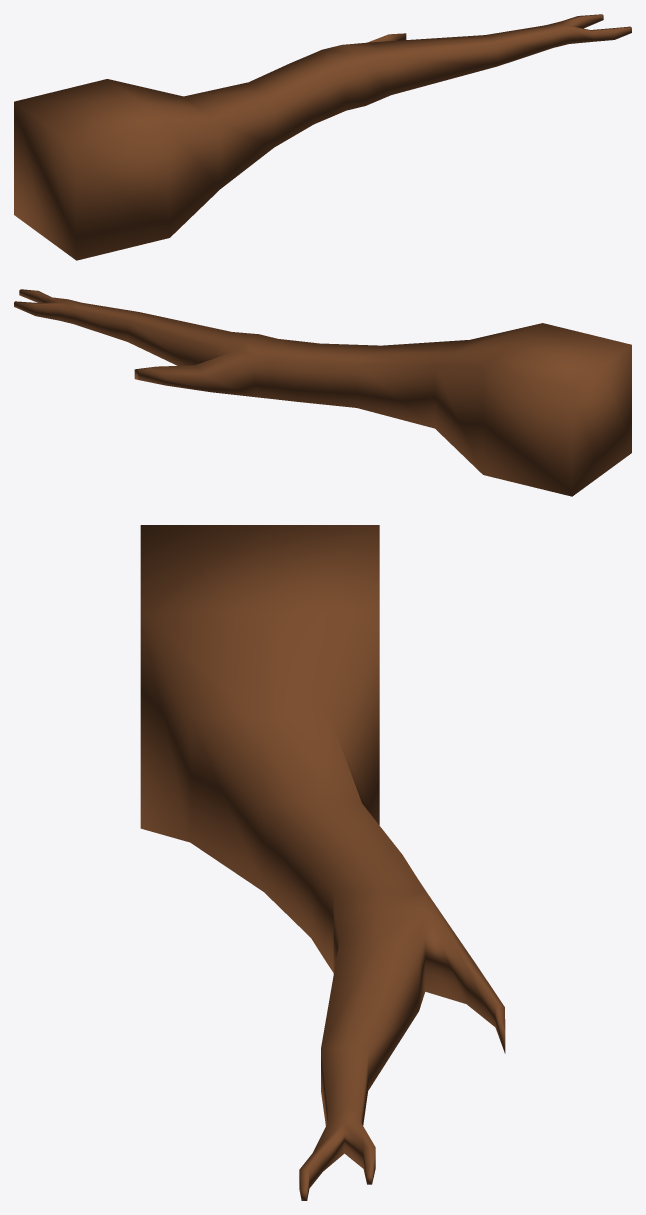
File: treeroot.fbx
3 renders of one model, top to bottom at view 1: azimuth 30°, elevation 25°; view 2: azimuth 150°, elevation 25°; view 3: azimuth 270°, elevation 25°, orthographic. The views are drawn at different scales.
Visible parts, largest first — view 1: Cube; view 2: Cube; view 3: Cube.
Part boxes in pixels (bbox=[...]): Cube: bbox=[14, 14, 631, 260]; Cube: bbox=[14, 289, 631, 496]; Cube: bbox=[140, 525, 505, 1200].
Bounding box in the file's own units: 1889 × 342 × 522.
